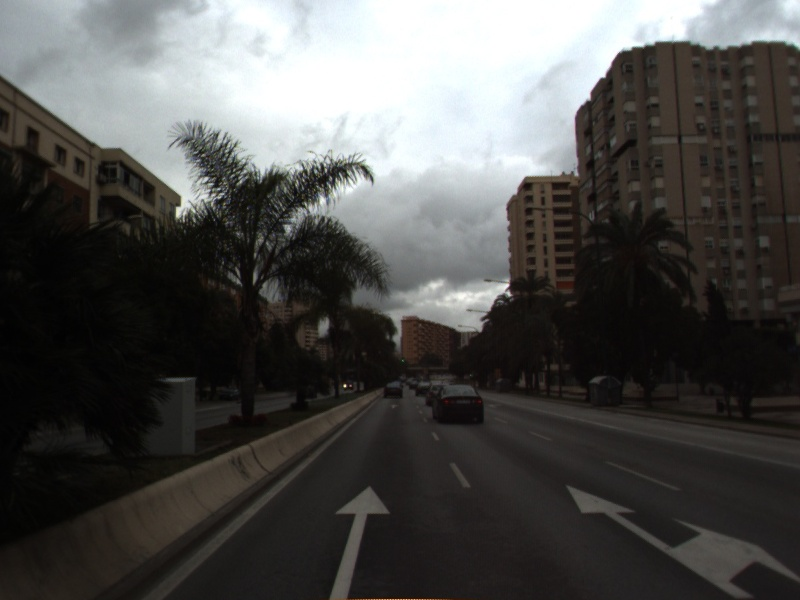STRAIGHT: (325, 482, 394, 600)
STRAIGHT_RIGHT: (562, 482, 800, 600)
